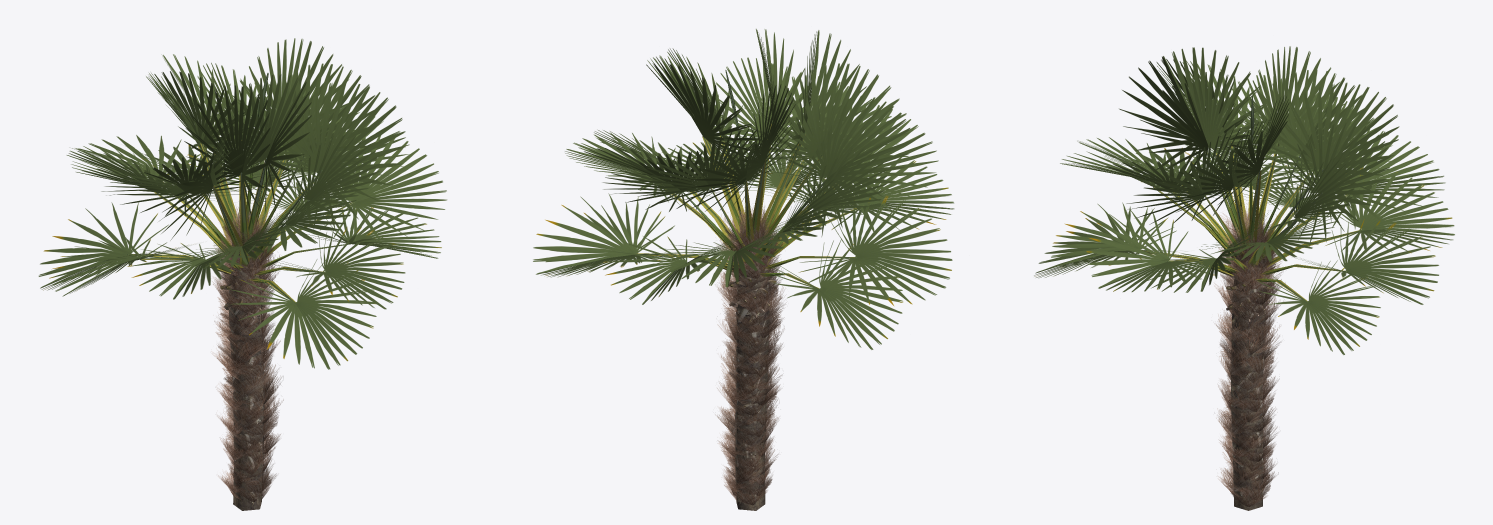
The model's file is fanpalm_med2.glb.
3 views of the same model, side by side, from view 1: azimuth 30°, elevation 25°; view 2: azimuth 150°, elevation 25°; view 3: azimuth 270°, elevation 25° (orthographic). The views are drawn at different scales.
Parts seen in each view (by area): view 1: Chamaerops_humilis_HD_w; view 2: Chamaerops_humilis_HD_w; view 3: Chamaerops_humilis_HD_w.
Part boxes in pixels (bbox=[...]): Chamaerops_humilis_HD_w: bbox=[38, 38, 446, 510]; Chamaerops_humilis_HD_w: bbox=[533, 29, 954, 510]; Chamaerops_humilis_HD_w: bbox=[1034, 46, 1454, 510].
Size of the model in its own units: 2.57 by 3 by 2.7.
Materials: 9 (9 with a texture image).
